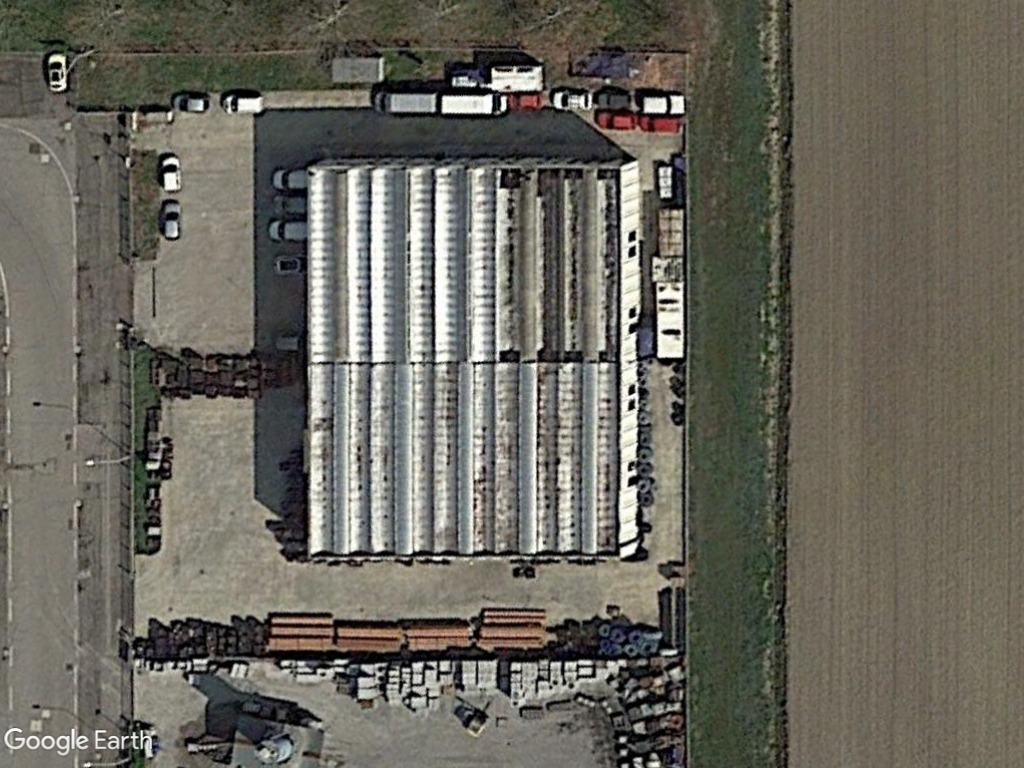car: (155, 150, 189, 195), (155, 197, 188, 243), (636, 89, 689, 117), (220, 90, 272, 118), (548, 84, 597, 113), (42, 47, 71, 95), (168, 89, 216, 117), (593, 105, 640, 131)
truck: (368, 86, 440, 118), (436, 92, 512, 121)
van: (271, 163, 312, 193), (265, 217, 308, 243)
